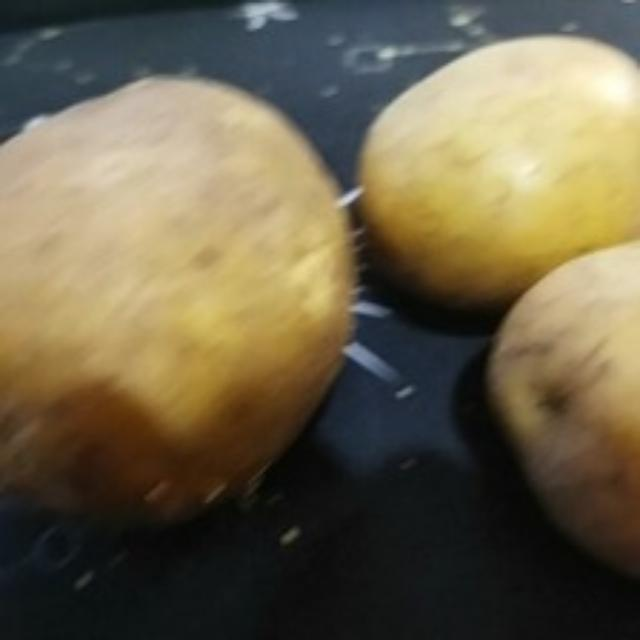Damaged potato: (0, 65, 362, 539), (482, 241, 638, 601)
Potato: (347, 29, 636, 313)
